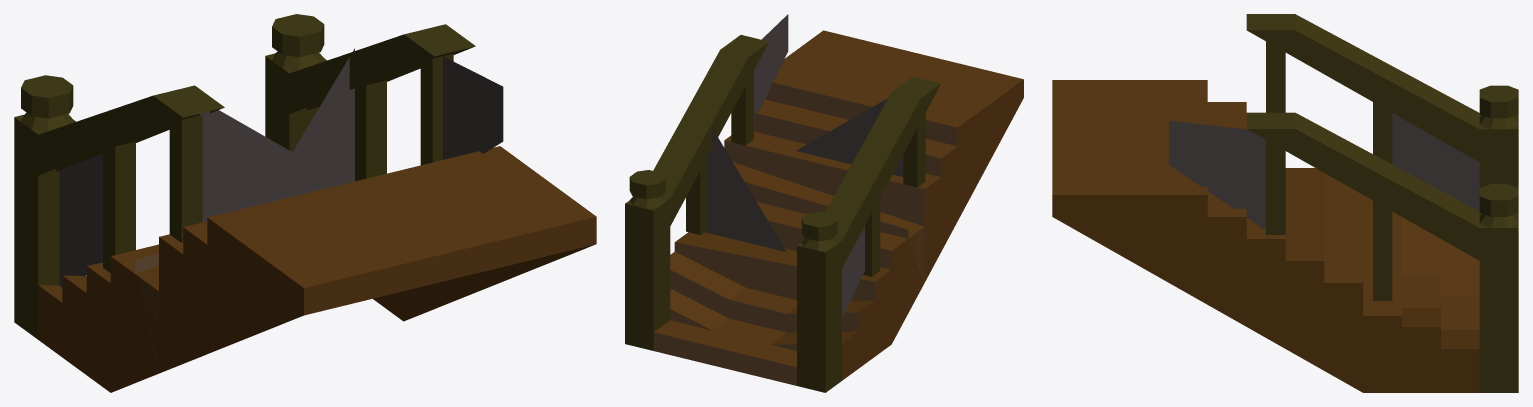
The model's file is obj_stairs_10_0.obj.
3 views of the same model, side by side, from view 1: azimuth 30°, elevation 25°; view 2: azimuth 150°, elevation 25°; view 3: azimuth 270°, elevation 25° (orthographic). The views are drawn at different scales.
Bounding box in the file's own units: 1.75 × 1.88 × 3.
